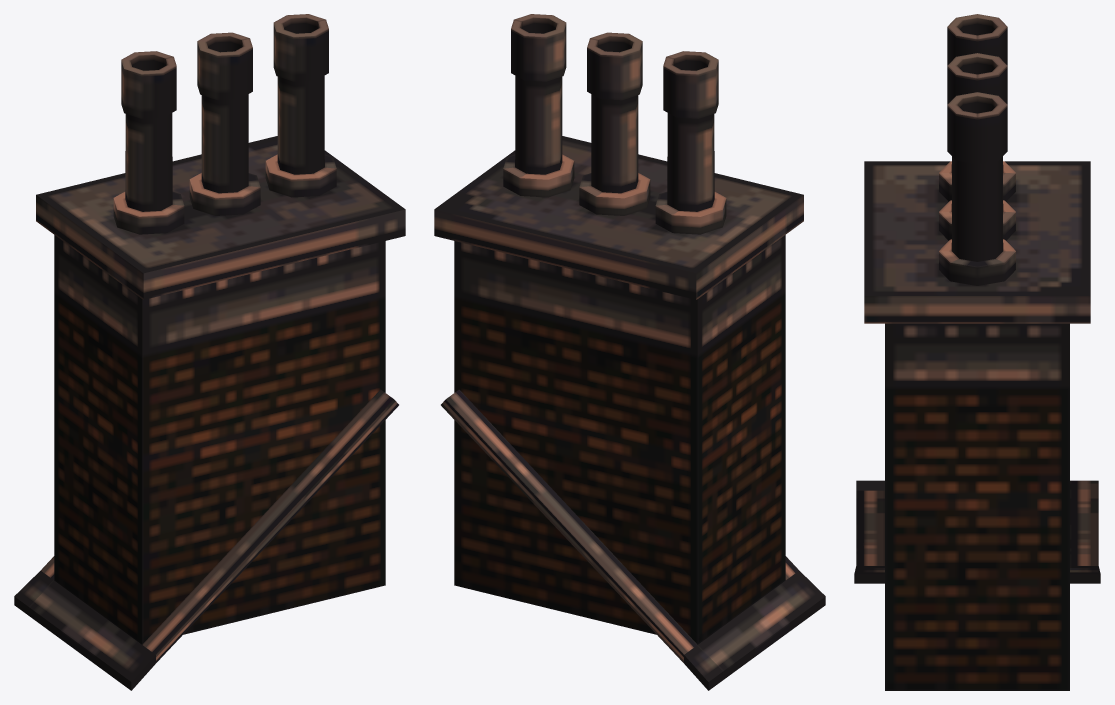
The model's file is EnvBdgMD_Factory_B_Outdoor_Chimney_A.FBX.
3 views of the same model, side by side, from view 1: azimuth 30°, elevation 25°; view 2: azimuth 150°, elevation 25°; view 3: azimuth 270°, elevation 25° (orthographic). The views are drawn at different scales.
Visible parts, largest first — view 1: EnvBdgMD_Factory_B_Outdoor_Chimney_A; view 2: EnvBdgMD_Factory_B_Outdoor_Chimney_A; view 3: EnvBdgMD_Factory_B_Outdoor_Chimney_A.
Part boxes in pixels (left/top/right/bottom): EnvBdgMD_Factory_B_Outdoor_Chimney_A: left=14, top=14, right=405, bottom=690; EnvBdgMD_Factory_B_Outdoor_Chimney_A: left=434, top=14, right=825, bottom=690; EnvBdgMD_Factory_B_Outdoor_Chimney_A: left=854, top=14, right=1100, bottom=690.
Bounding box in the file's own units: 165 × 320 × 120.
